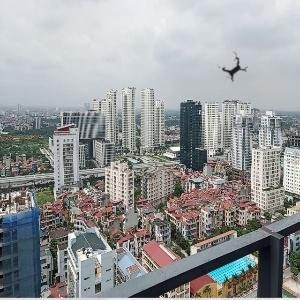drone: (208, 43, 261, 96)
